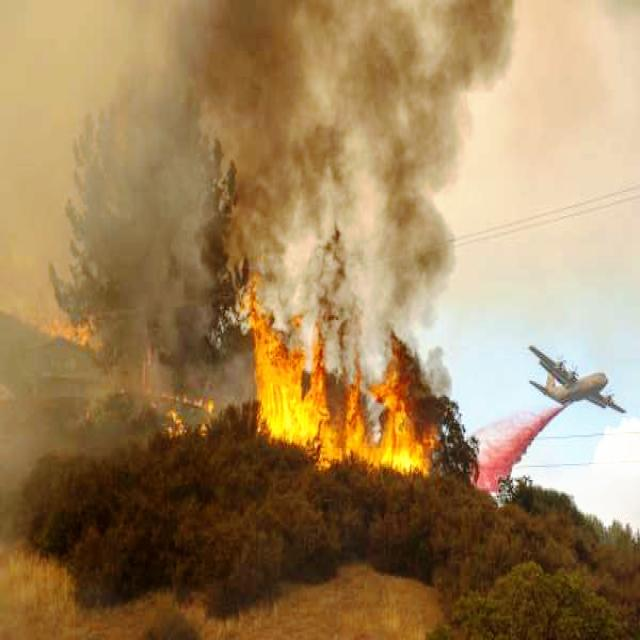api: (248, 308, 330, 443), (327, 388, 423, 474)
asap: (175, 1, 517, 285), (1, 21, 169, 457), (352, 278, 473, 331), (427, 342, 454, 400)
